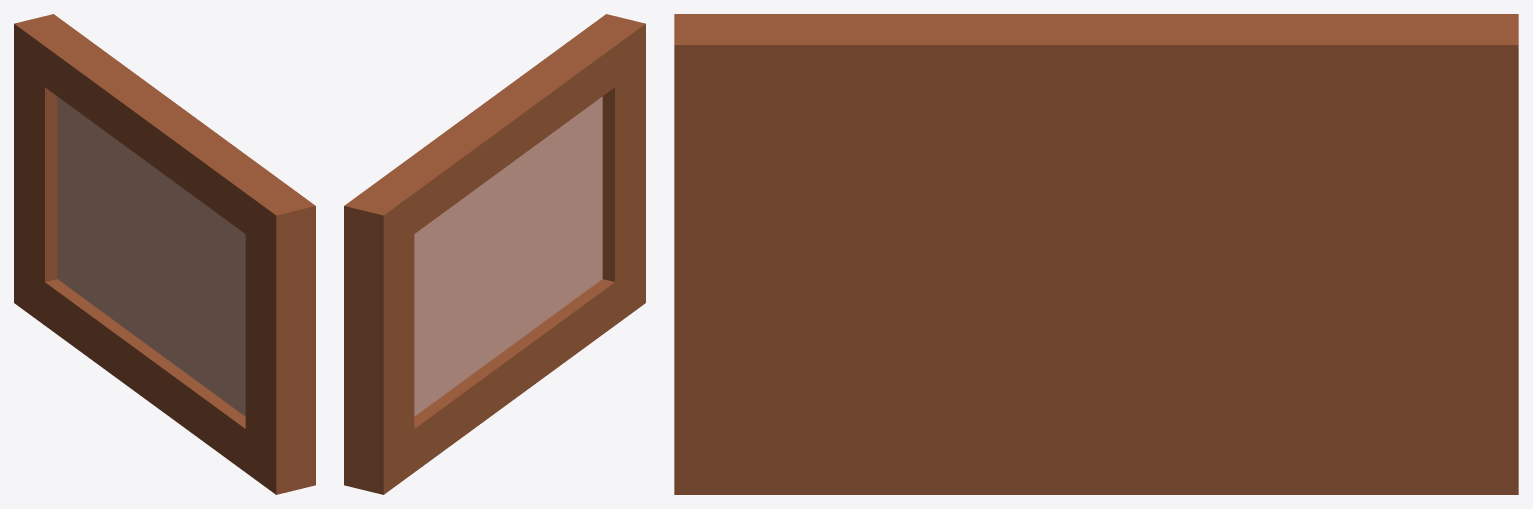
File: painting3.fbx
The picture shows the model from 3 angles, left to right: view 1: azimuth 30°, elevation 25°; view 2: azimuth 150°, elevation 25°; view 3: azimuth 270°, elevation 25°; orthographic projection. The views are drawn at different scales.
Parts seen in each view (by area): view 1: painting3; view 2: painting3; view 3: painting3.
Boxes of the visible parts, x1,y1,x2,y2 form: painting3: (14,14,315,494); painting3: (344,14,645,494); painting3: (674,14,1518,494).
Size of the model in its own units: 14.24 by 95.98 by 163.
